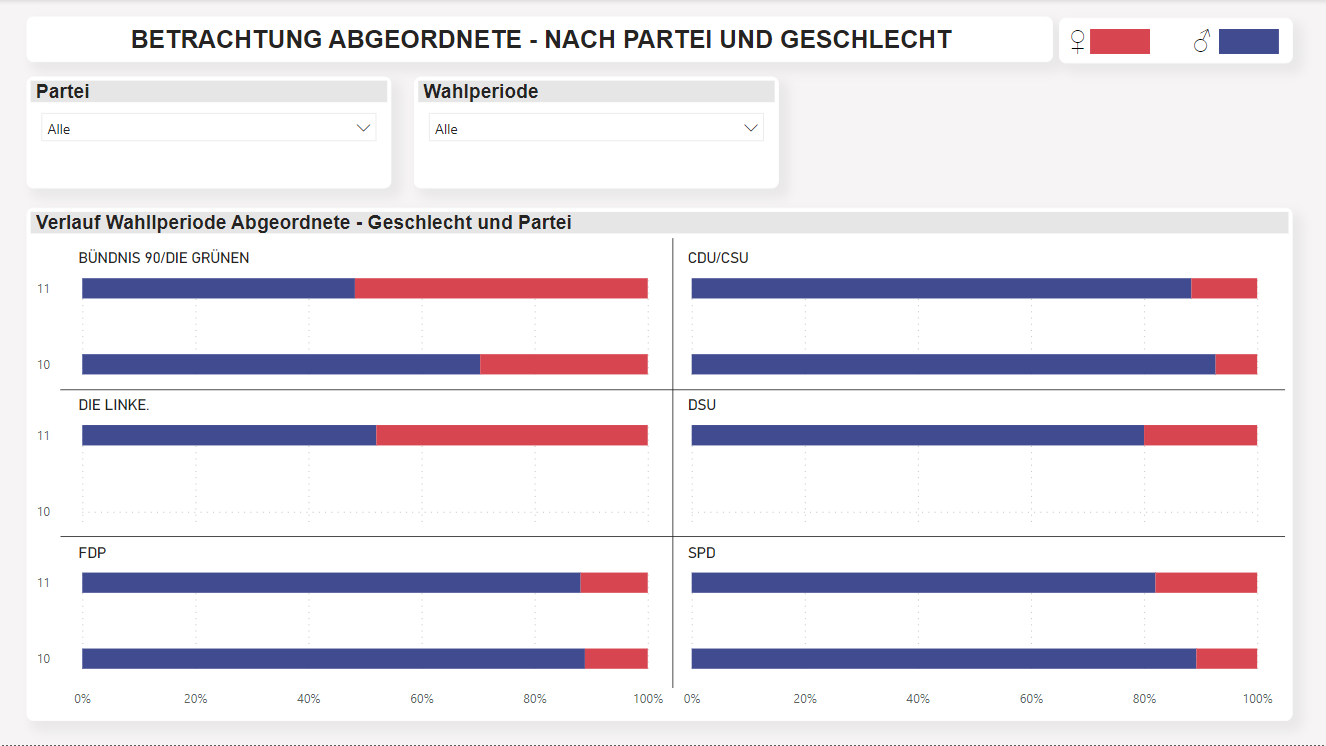

This screenshot's page, from the dashboard's own definition file:
{"tool":"powerbi","page":{"name":"Abgeordnete - ♀♂ + Partei","canvas":[1280,720],"ordinal":1},"visuals":[{"type":"textbox","box":[1022.5,18.2,225.7,43.9],"z":0,"group":"g1"},{"type":"textbox","box":[26.9,17.4,990.5,44.3],"z":1000},{"type":"shape","box":[1052.8,28.8,57.6,24.2],"z":1000,"group":"g1"},{"type":"shape","box":[1177,28.8,57.6,24.2],"z":2000,"group":"g1"},{"type":"group","id":"g1","title":"Gruppe 1","box":[1022.5,18.2,225.7,43.9],"z":6000},{"type":"hundredPercentStackedBarChart","title":"Verlauf Wahllperiode Abgeordnete - Geschlecht und Partei","fields":{"Y":["CountNonNull(stammdaten_bereinigt_1-7.ID)"],"Rows":["stammdaten_bereinigt_1-7.PARTEI_KURZ"],"Category":["stammdaten_bereinigt_1-7.WP"],"Series":["stammdaten_bereinigt_1-7.GESCHLECHT"]},"box":[26.5,88,1221.7,607.8],"z":7000}]}

Visuals, with their boxes in screenshot pixels (x1, y1, x2, y2), scaled from the page's 1280x720 canvas onto the 1326x746 screenshot:
textbox: box(1059, 19, 1293, 64)
textbox: box(28, 18, 1054, 64)
shape: box(1091, 30, 1150, 55)
shape: box(1219, 30, 1279, 55)
"Gruppe 1" group: box(1059, 19, 1293, 64)
"Verlauf Wahllperiode Abgeordnete - Geschlecht und Partei" hundredPercentStackedBarChart: box(27, 91, 1293, 721)
